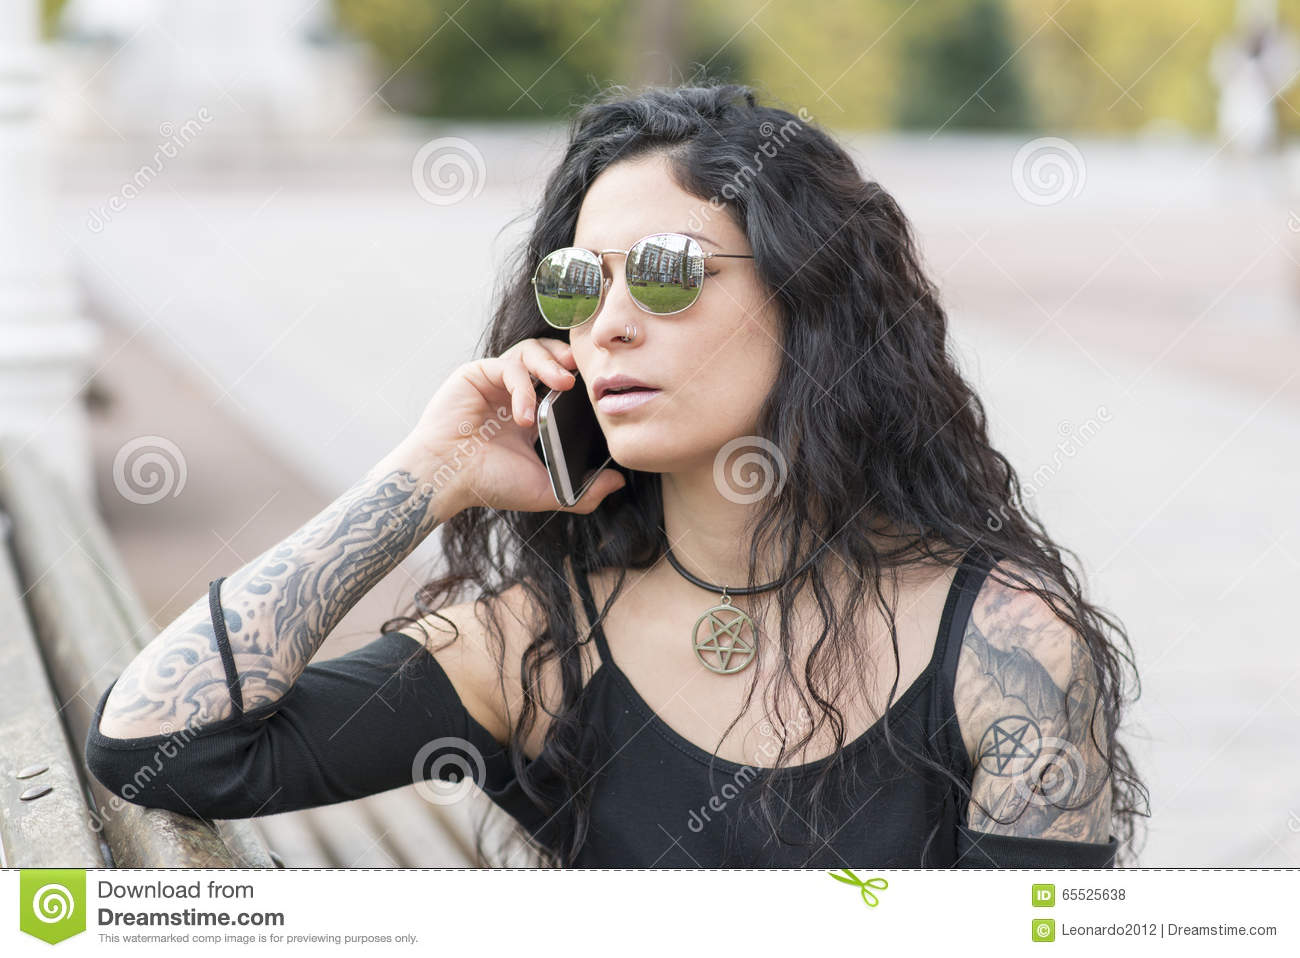phone: (537, 366, 616, 508)
talk: (429, 222, 733, 535)
